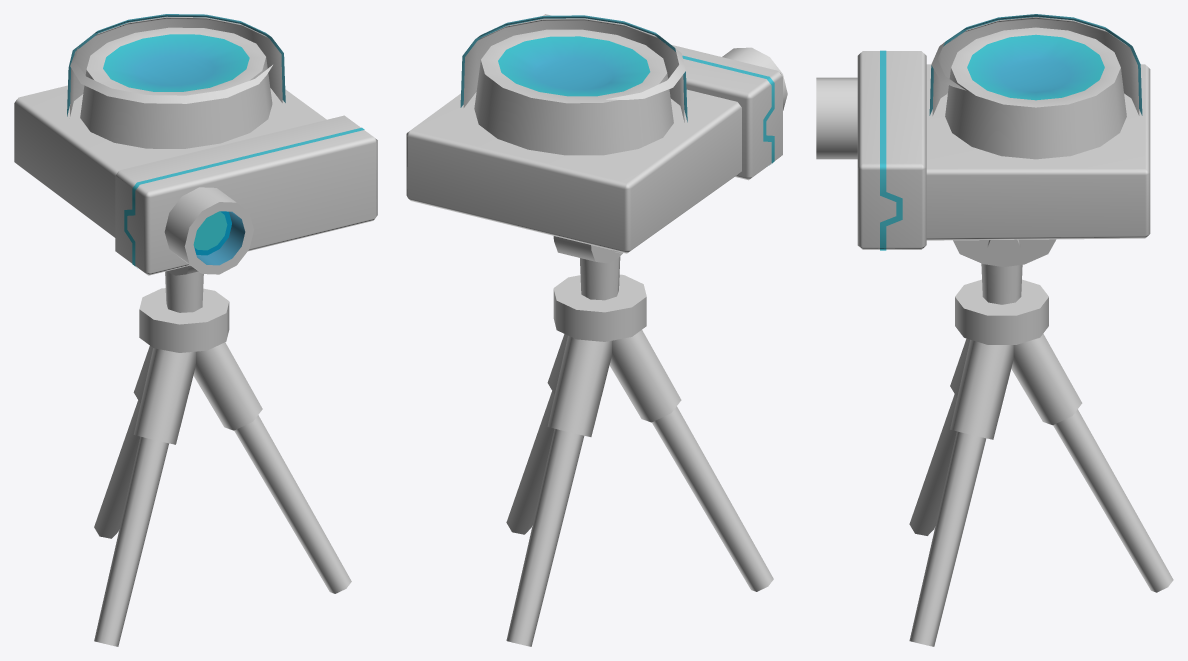
File: epfProjector.glb
3 views of the same model, side by side, from view 1: azimuth 30°, elevation 25°; view 2: azimuth 150°, elevation 25°; view 3: azimuth 270°, elevation 25° (orthographic). The views are drawn at different scales.
Parts seen in each view (by area): view 1: epfProjector; view 2: epfProjector; view 3: epfProjector.
Boxes of the visible parts, bbox=[...] form: epfProjector: bbox=[14, 14, 377, 646]; epfProjector: bbox=[406, 14, 787, 646]; epfProjector: bbox=[816, 14, 1173, 646].
Size of the model in its own units: 0.5153 by 1.02 by 0.6167.
